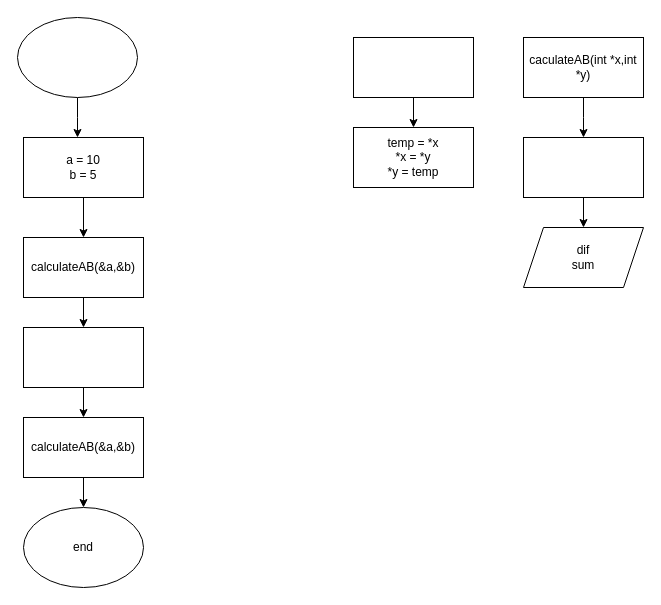
Some shapes in this 661 by 605 pixel diagram are drawn without their labels. The shapes that lost their labels are listed below. From the top down, each one's centre as x and y in pixels, then its label:
At (x=77, y=57): "start".
At (x=413, y=67): "swapAB(int *x,int *y)".
At (x=583, y=167): "dif = *x - *y sum = *x + *y".
At (x=83, y=357): "swapAB(&a,&b)".
